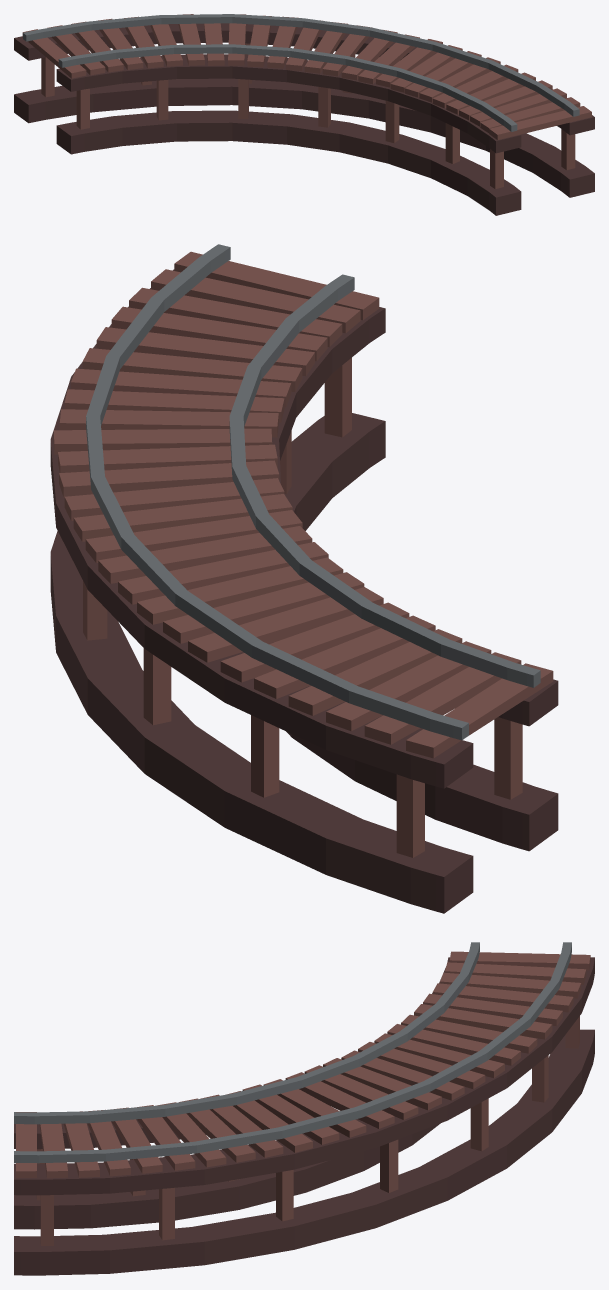
File: DarkRoseWoodMechSmall1_5GaugeRightTurn1.fbx
3 renders of one model, top to bottom at view 1: azimuth 30°, elevation 25°; view 2: azimuth 150°, elevation 25°; view 3: azimuth 270°, elevation 25°, orthographic. The views are drawn at different scales.
Visible parts, largest first — view 1: DarkRoseWoodMechSmall1_5GaugeLeftTurn1; view 2: DarkRoseWoodMechSmall1_5GaugeLeftTurn1; view 3: DarkRoseWoodMechSmall1_5GaugeLeftTurn1.
Boxes of the visible parts, <box> form: DarkRoseWoodMechSmall1_5GaugeLeftTurn1: <box>14,14,594,215</box>; DarkRoseWoodMechSmall1_5GaugeLeftTurn1: <box>50,244,558,913</box>; DarkRoseWoodMechSmall1_5GaugeLeftTurn1: <box>14,942,594,1275</box>.
Bounding box in the file's own units: 951 × 221 × 1050.
